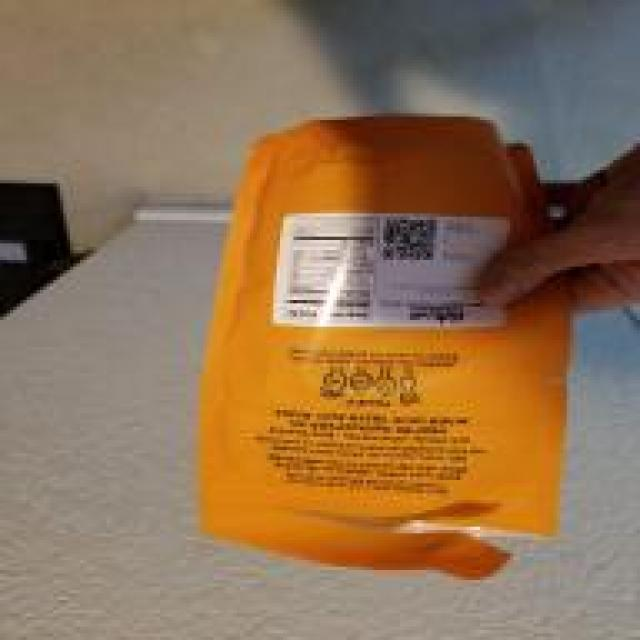QR_CODE: (377, 212, 443, 263)
